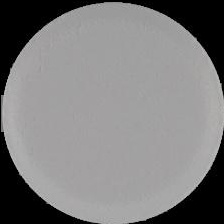33342-094: (0, 0, 224, 224)
